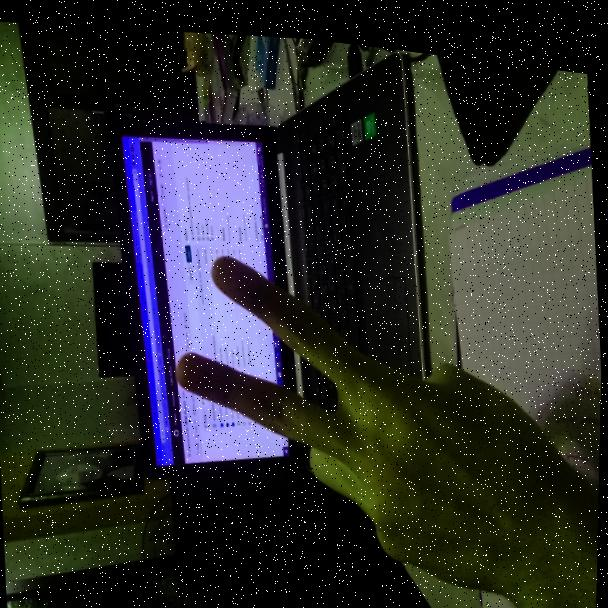two: (163, 219, 557, 608)
